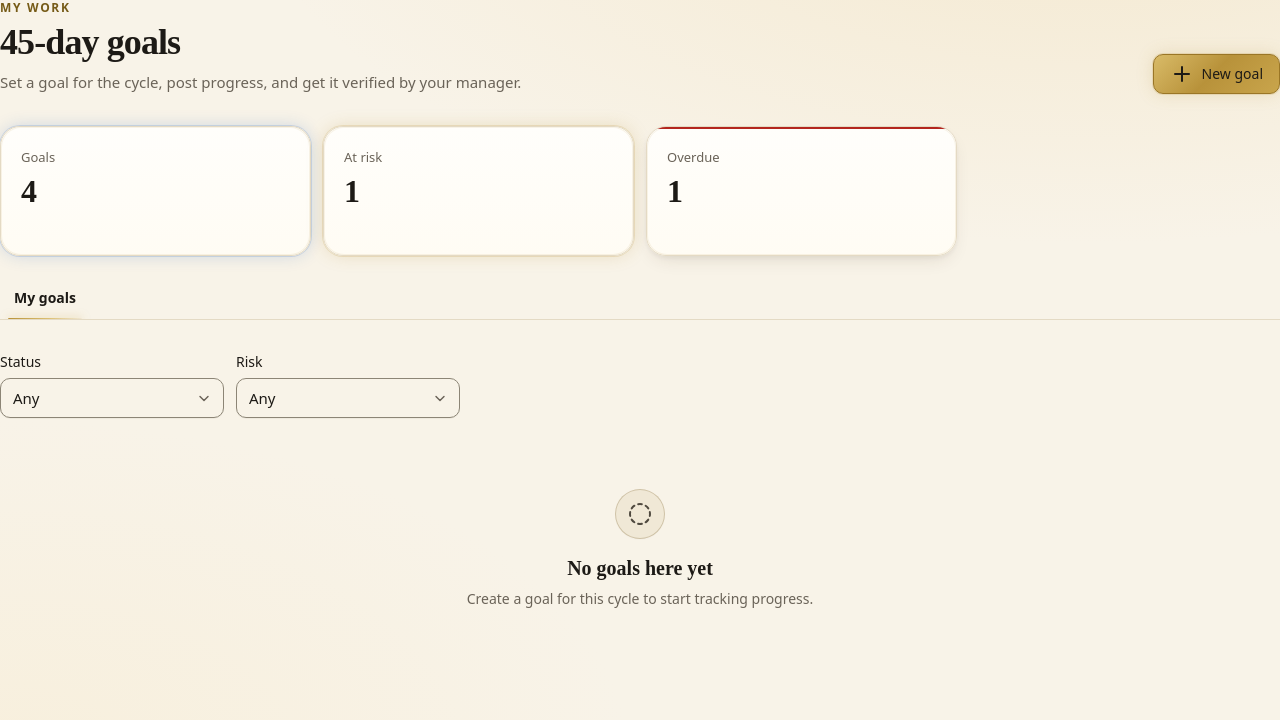
Test: GoalsPage states › a failed create shows the server message and never claims success
Click the button "New goal" at (1216,74), box x1=1152 y1=54 x2=1279 y2=94
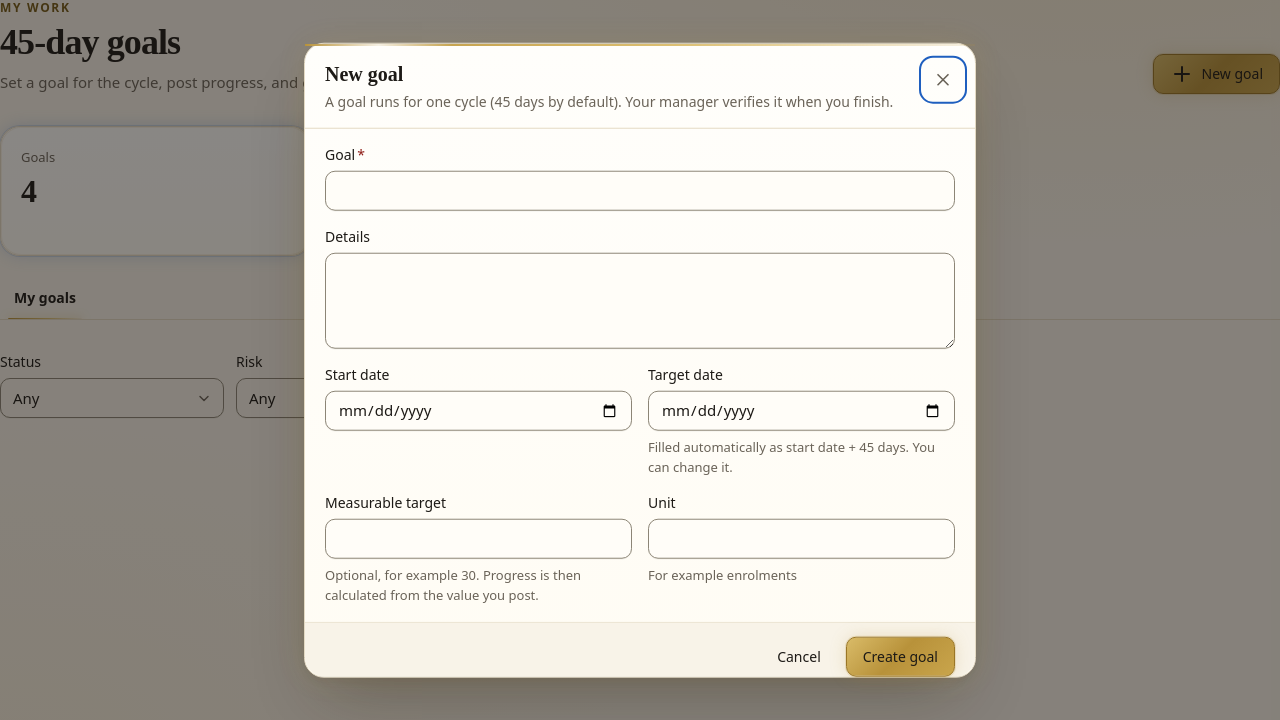
Type "Valid goal title" into the field labelled "Goal*" at (640,191), box x1=325 y1=171 x2=955 y2=211
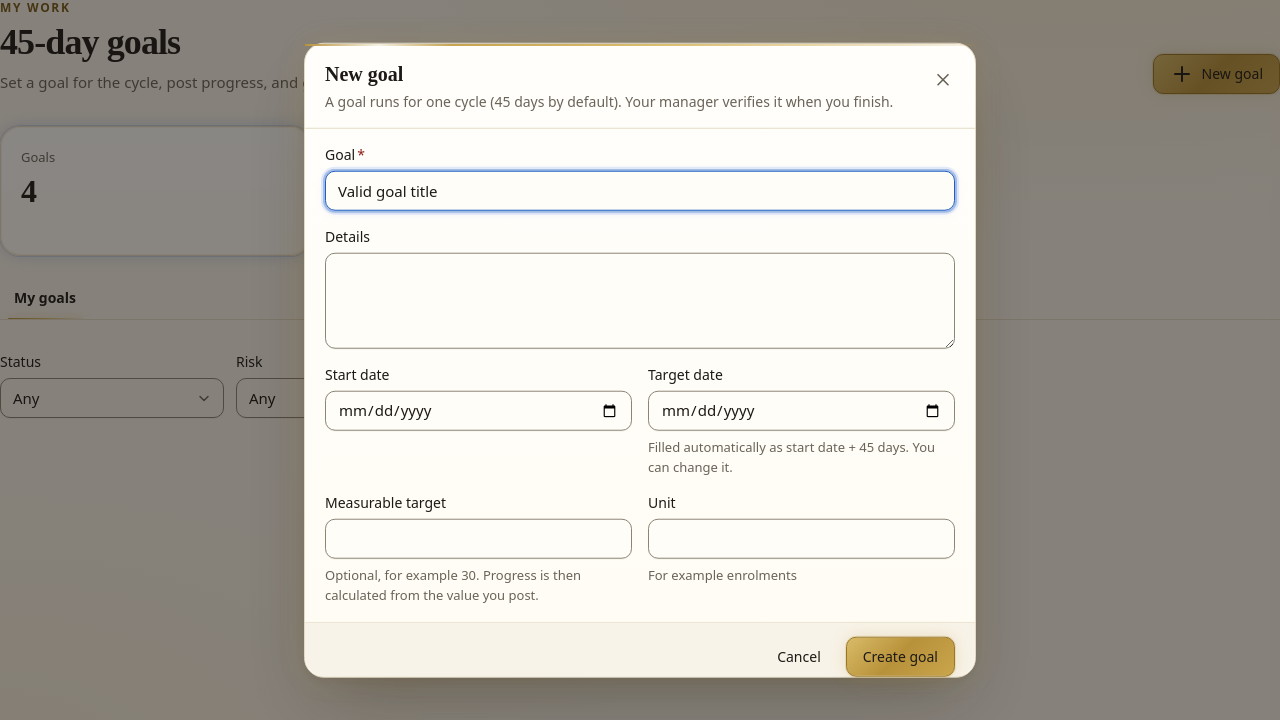
Click the button "Create goal" at (900,656), box x1=846 y1=636 x2=955 y2=676
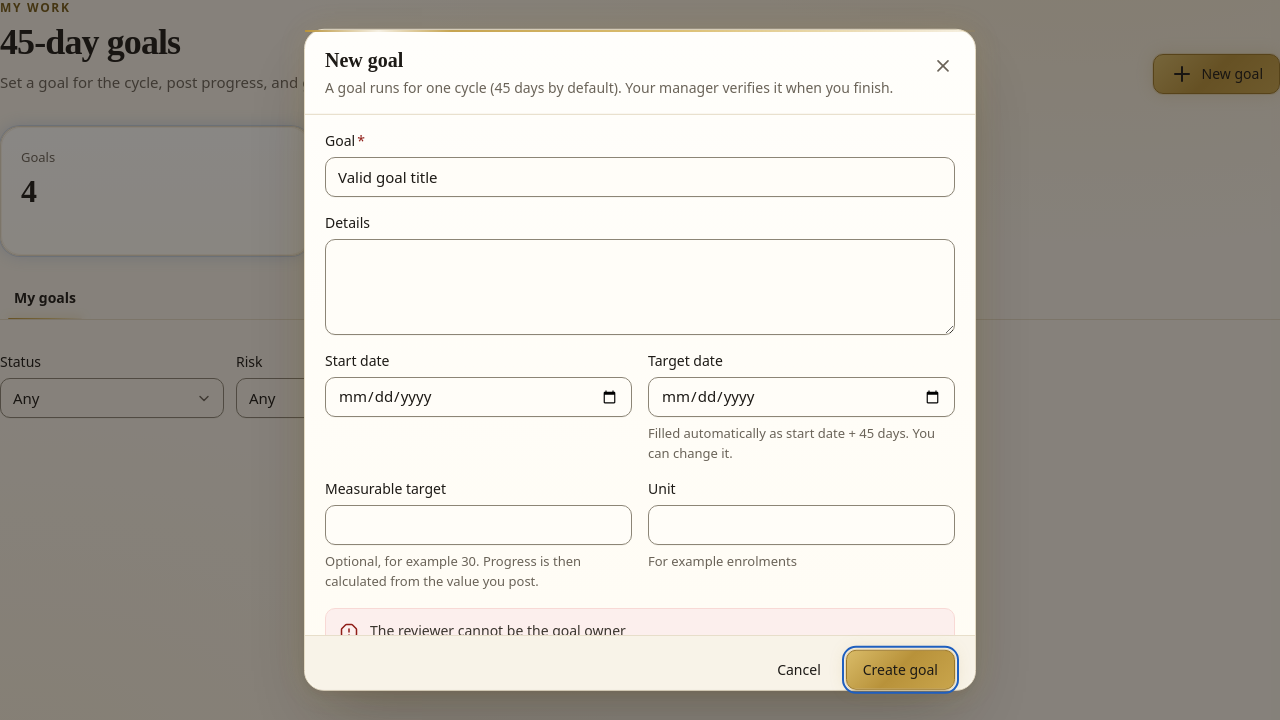
Now the text "The reviewer cannot be the goal owner" is shown, box x1=370 y1=620 x2=626 y2=635
